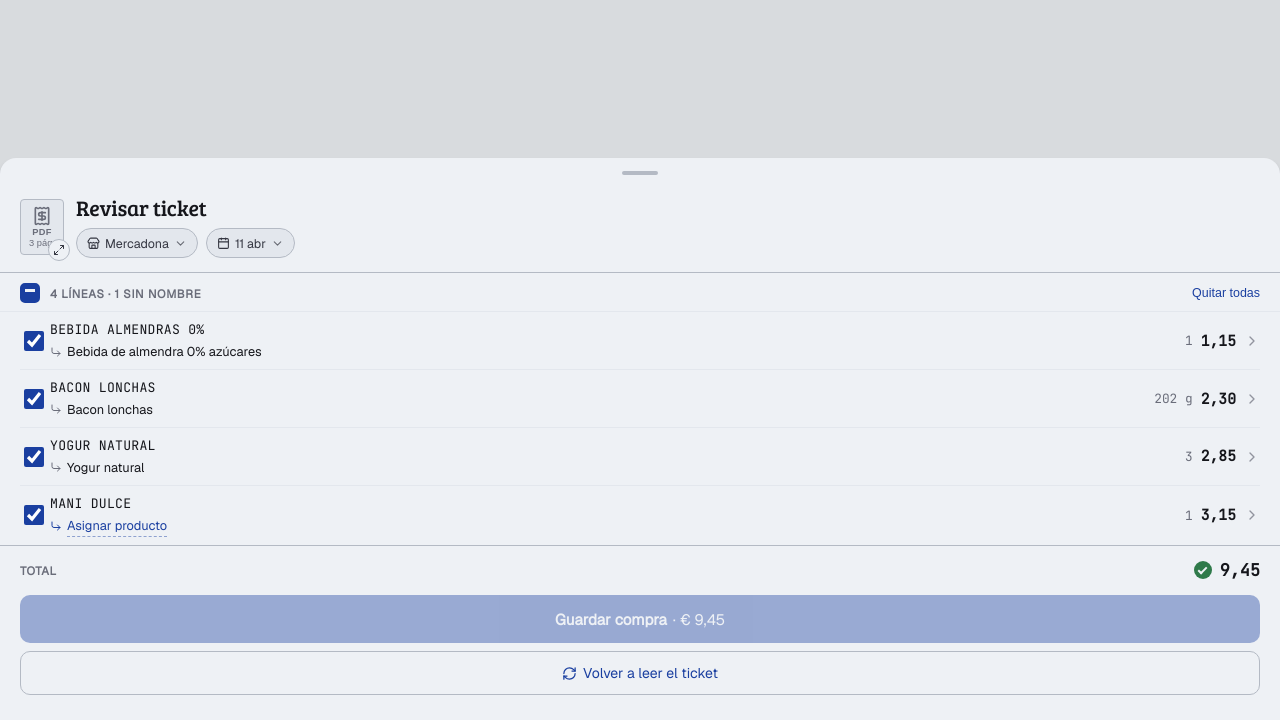
Test: ReceiptScanSheet — thumbnail › tapping the PDF thumb opens the pager on the file
Step 1. Click the button with aria-label "Ampliar el ticket" → (42, 227), box [20,199,64,255]
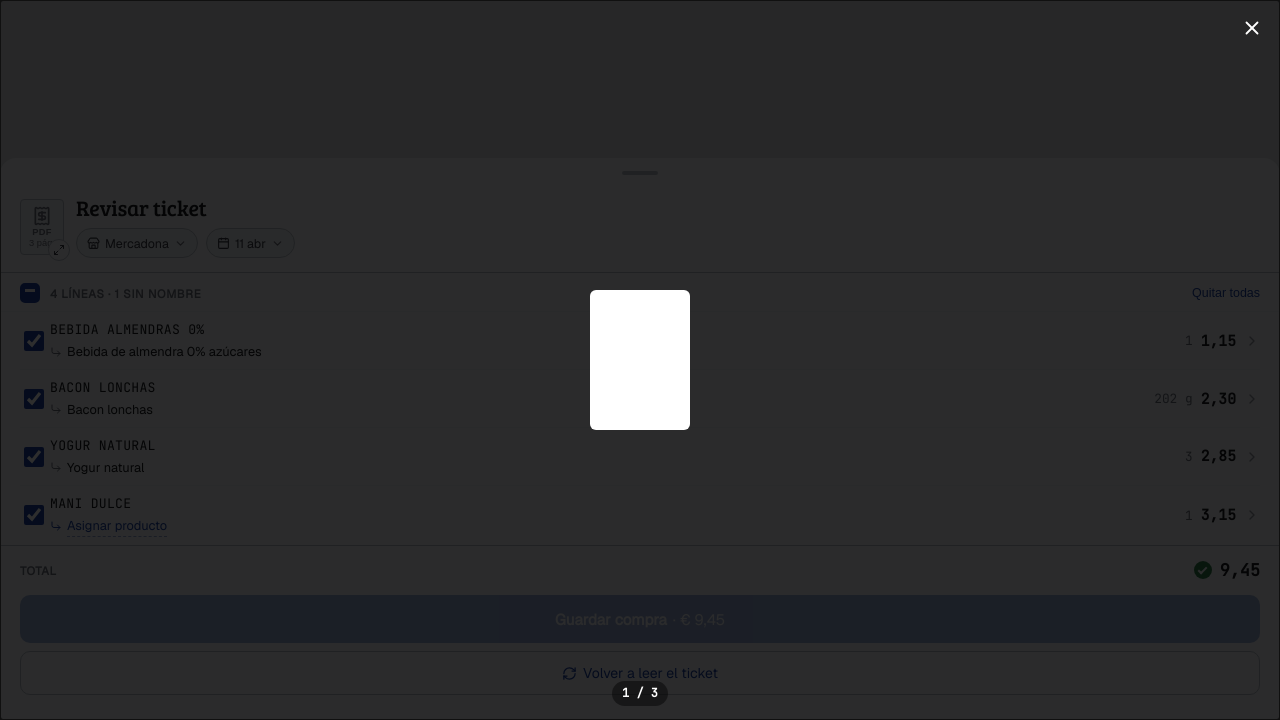
Expected: the text "1 / 3" is shown, [612,681,668,706]
